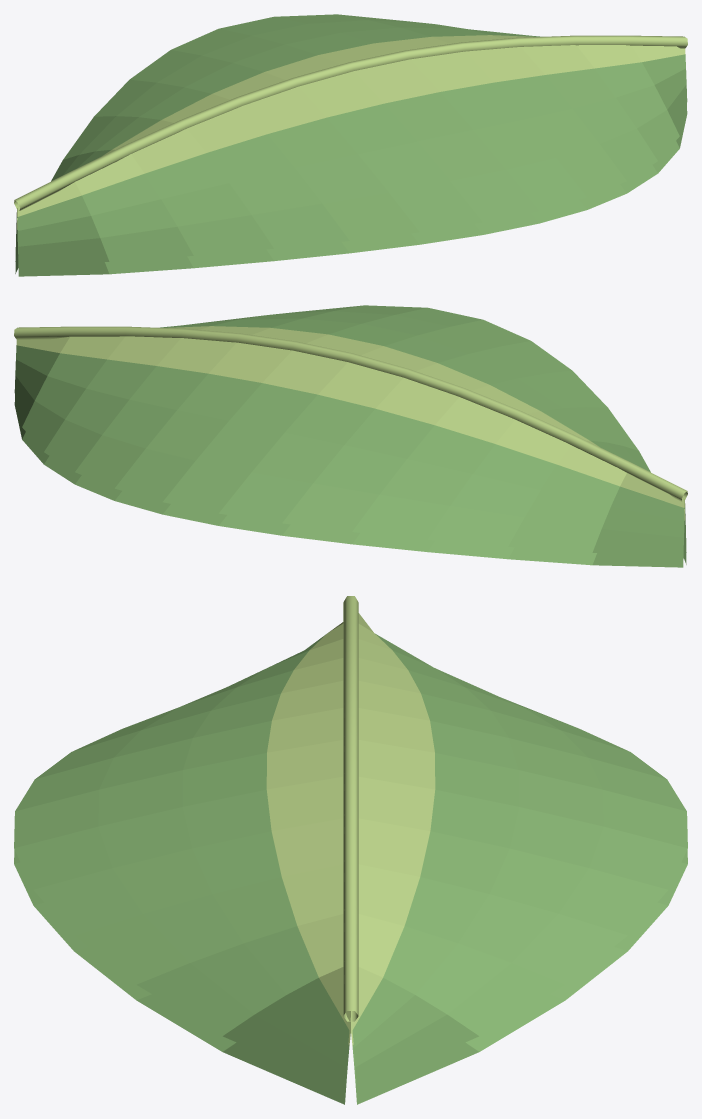
File: mdl_env_leaf_round.glb
3 views of the same model, one above another, from view 1: azimuth 30°, elevation 25°; view 2: azimuth 150°, elevation 25°; view 3: azimuth 270°, elevation 25° (orthographic). The views are drawn at different scales.
Parts seen in each view (by area): view 1: Lily pad | cupped, Lily pad | cupped | central vein; view 2: Lily pad | cupped, Lily pad | cupped | central vein; view 3: Lily pad | cupped, Lily pad | cupped | central vein.
Part boxes in pixels (x1,y1,x2,y2): Lily pad | cupped: [15, 14, 687, 276]; Lily pad | cupped | central vein: [14, 35, 687, 210]; Lily pad | cupped: [14, 305, 686, 567]; Lily pad | cupped | central vein: [14, 326, 687, 501]; Lily pad | cupped: [14, 613, 687, 1104]; Lily pad | cupped | central vein: [343, 596, 358, 1021].
Size of the model in its own units: 2.26 by 0.4206 by 1.55.
